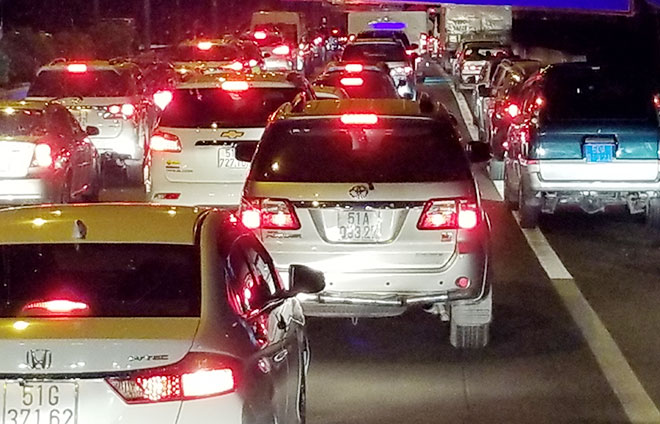Bien-so: (5, 378, 79, 423), (339, 209, 384, 242), (219, 146, 246, 168)
